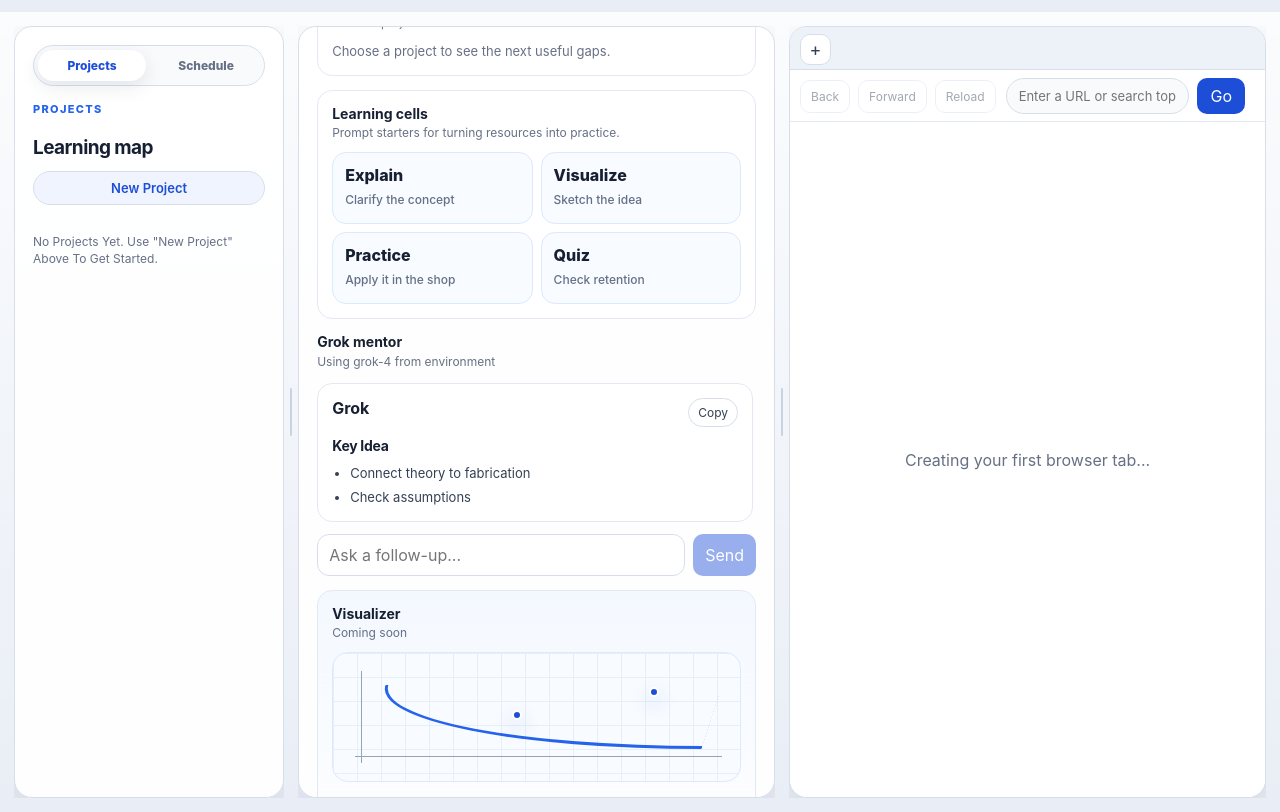
Test: App › formats mentor stream responses and copies assistant text
The image size is (1280, 812).
(page scrolled)
Expected: the heading "Key Idea" is shown, 332,437 -> 389,454
Expected: the list item "Connect theory to fabrication" is shown, 350,465 -> 530,481
Click the button "Copy" at {"x": 713, "y": 412}, box 688,398 -> 738,427
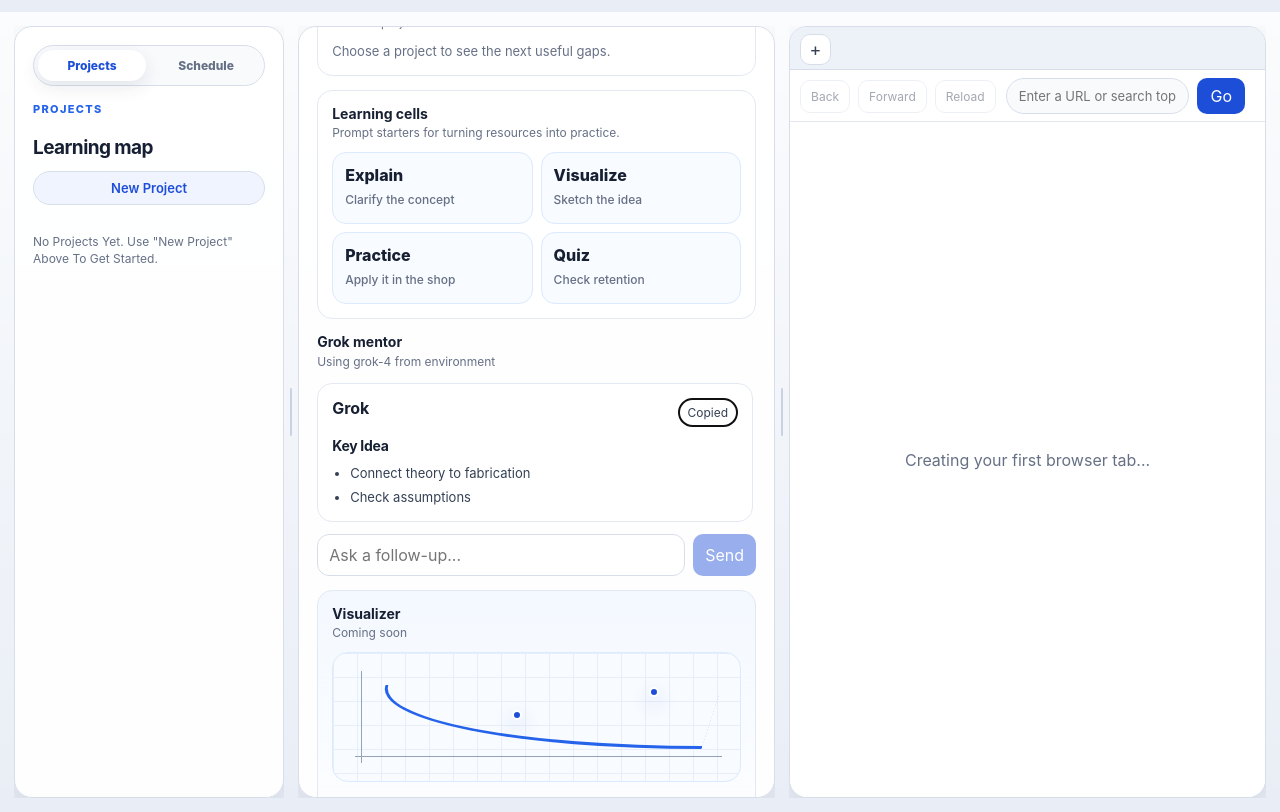
Now the button "Copied" is shown, box 678,398 -> 738,427
